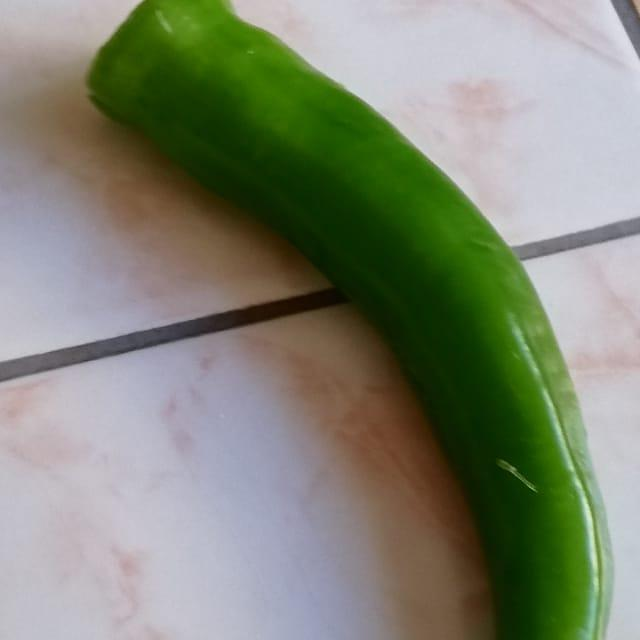chili_pepper: (75, 0, 632, 640)
